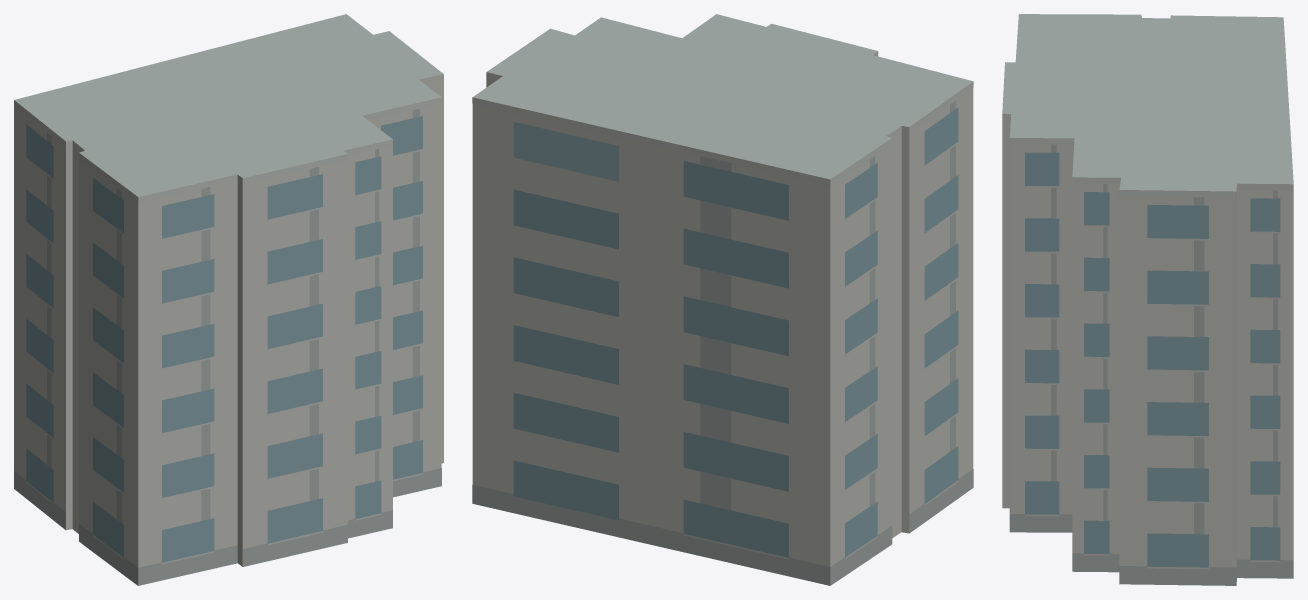
The model's file is survey-upis-32839261.glb.
3 renders of one model, left to right at view 1: azimuth 30°, elevation 25°; view 2: azimuth 150°, elevation 25°; view 3: azimuth 270°, elevation 25°, orthographic. The views are drawn at different scales.
Parts seen in each view (by area): view 1: survey-upis-32839261.tmp; view 2: survey-upis-32839261.tmp; view 3: survey-upis-32839261.tmp.
Part boxes in pixels (left/top/right/bottom): survey-upis-32839261.tmp: left=14, top=14, right=443, bottom=585; survey-upis-32839261.tmp: left=472, top=14, right=973, bottom=585; survey-upis-32839261.tmp: left=1002, top=14, right=1293, bottom=585.
Size of the model in its own units: 14.78 by 15.3 by 10.26.
